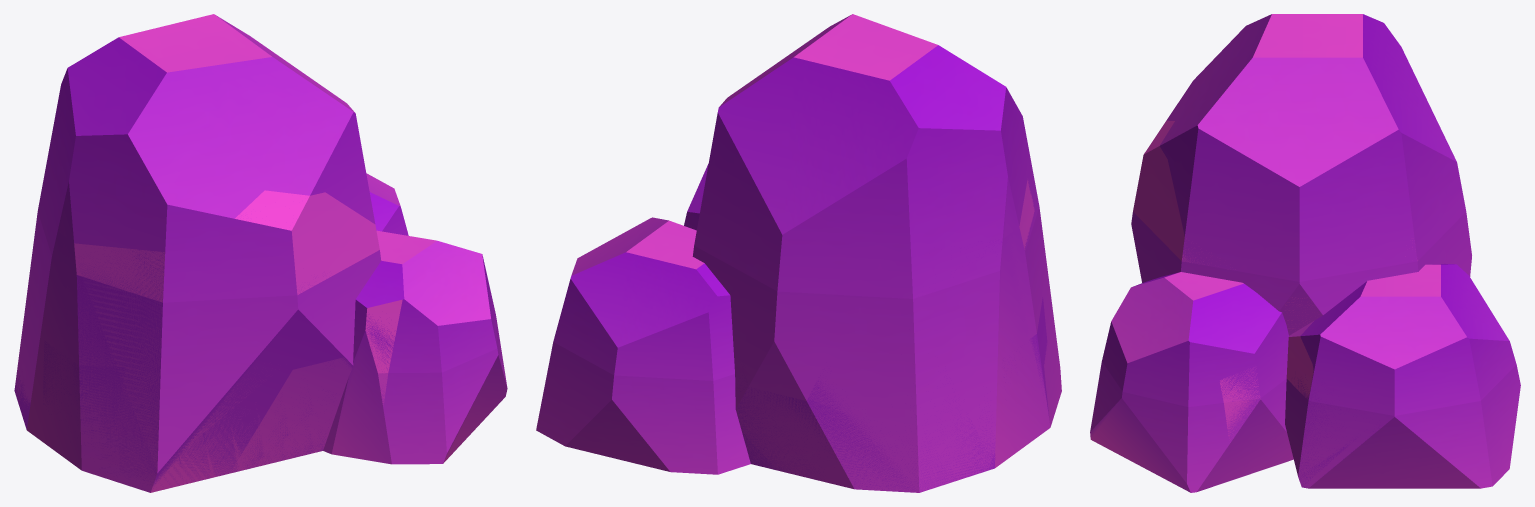
The model's file is rockD_base.fbx.
3 views of the same model, side by side, from view 1: azimuth 30°, elevation 25°; view 2: azimuth 150°, elevation 25°; view 3: azimuth 270°, elevation 25° (orthographic). The views are drawn at different scales.
Parts seen in each view (by area): view 1: rockD_base, rockD_break1, rockD_break2; view 2: rockD_base, rockD_break1, rockD_break2; view 3: rockD_base, rockD_break1, rockD_break2.
Boxes of the visible parts, <box> form: rockD_base: <box>15,14,507,492</box>; rockD_break1: <box>14,190,402,488</box>; rockD_break2: <box>43,329,354,473</box>; rockD_base: <box>536,14,1061,492</box>; rockD_break1: <box>713,180,1045,492</box>; rockD_break2: <box>735,297,1049,476</box>; rockD_base: <box>1090,14,1520,492</box>; rockD_break1: <box>1131,120,1423,488</box>; rockD_break2: <box>1224,263,1445,481</box>.
Bounding box in the file's own units: 2.08 × 1.8 × 2.05.
